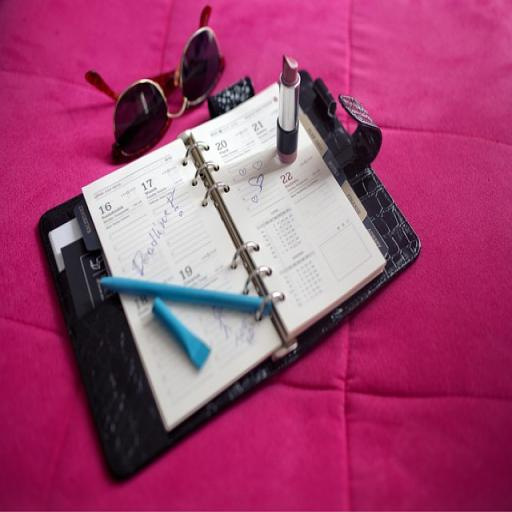lipstick: (277, 56, 299, 163)
